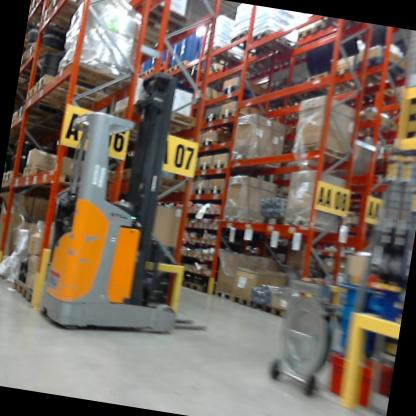forklift: (19, 51, 246, 347)
pallet: (40, 0, 103, 39), (307, 15, 377, 50), (199, 45, 265, 80), (248, 23, 301, 65), (227, 30, 282, 70), (25, 82, 94, 113), (354, 48, 407, 86), (305, 66, 358, 104), (34, 70, 95, 103), (16, 159, 73, 191), (13, 103, 67, 135), (23, 35, 71, 70), (326, 60, 366, 95), (219, 106, 261, 134), (296, 23, 330, 55), (221, 80, 267, 103), (171, 57, 205, 77), (206, 178, 230, 203), (19, 283, 40, 306), (247, 293, 270, 313), (181, 278, 208, 295), (211, 157, 233, 177), (1, 167, 21, 188), (212, 284, 231, 304), (193, 157, 214, 174), (197, 136, 218, 151), (190, 183, 208, 200), (34, 0, 60, 11), (268, 303, 290, 316), (201, 112, 218, 128), (27, 0, 37, 26), (161, 65, 180, 78), (228, 294, 247, 306), (12, 278, 26, 294), (155, 58, 171, 70), (146, 62, 154, 82), (138, 69, 148, 82)
small_load_carrier: (312, 341, 392, 416)
